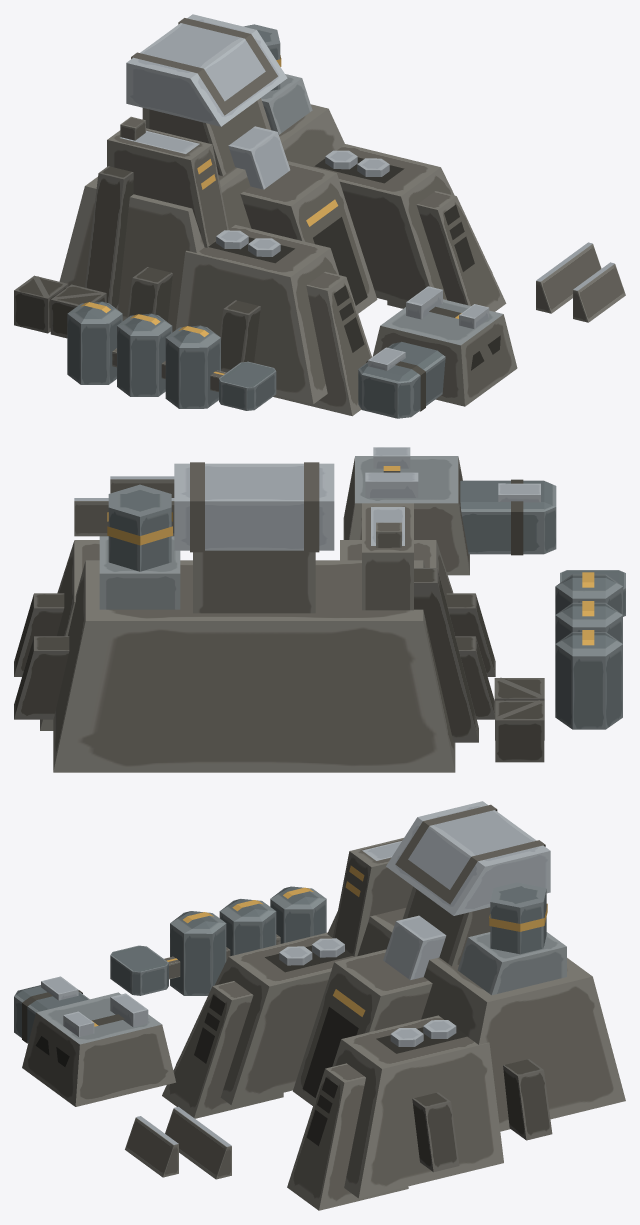
File: barracks2.FBX
3 renders of one model, top to bottom at view 1: azimuth 30°, elevation 25°; view 2: azimuth 150°, elevation 25°; view 3: azimuth 270°, elevation 25°, orthographic. The views are drawn at different scales.
Visible parts, largest first — view 1: barracks2; view 2: barracks2, e; view 3: barracks2, b.
Boxes of the visible parts, x1,y1,x2,y2 form: barracks2: [14, 14, 625, 418]; barracks2: [14, 447, 625, 772]; e: [376, 522, 401, 547]; barracks2: [14, 801, 625, 1210]; b: [279, 946, 312, 965].
Bounding box in the file's own units: 156 × 78.02 × 166.
1 material, 1 textured.
